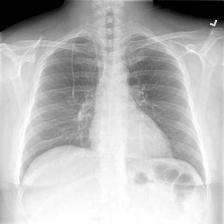normal: (15, 28, 210, 203)
